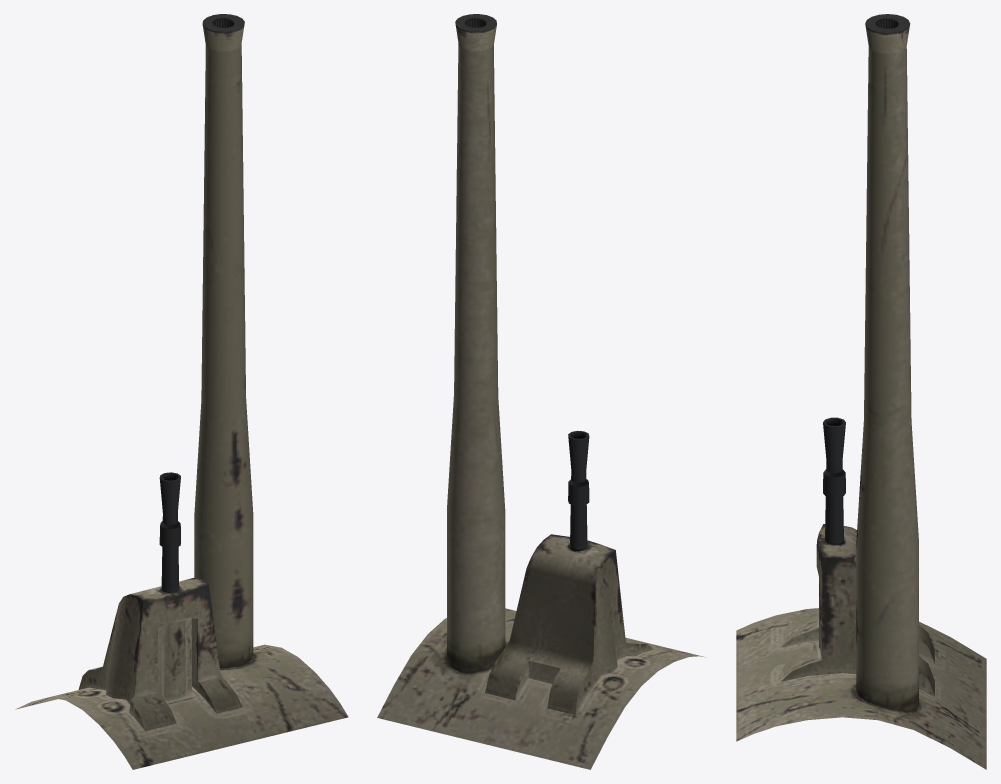
File: Gun_03.glb
The picture shows the model from 3 angles, left to right: view 1: azimuth 30°, elevation 25°; view 2: azimuth 150°, elevation 25°; view 3: azimuth 270°, elevation 25°; orthographic projection. The views are drawn at different scales.
Visible parts, largest first — view 1: set_0_group_0; view 2: set_0_group_0; view 3: set_0_group_0.
Part boxes in pixels (<box>): set_0_group_0: <box>15,14,348,769</box>; set_0_group_0: <box>377,14,705,769</box>; set_0_group_0: <box>736,14,986,769</box>.
Size of the model in its own units: 0.469 by 1.41 by 0.4462.
Materials: 1 (1 with a texture image).
